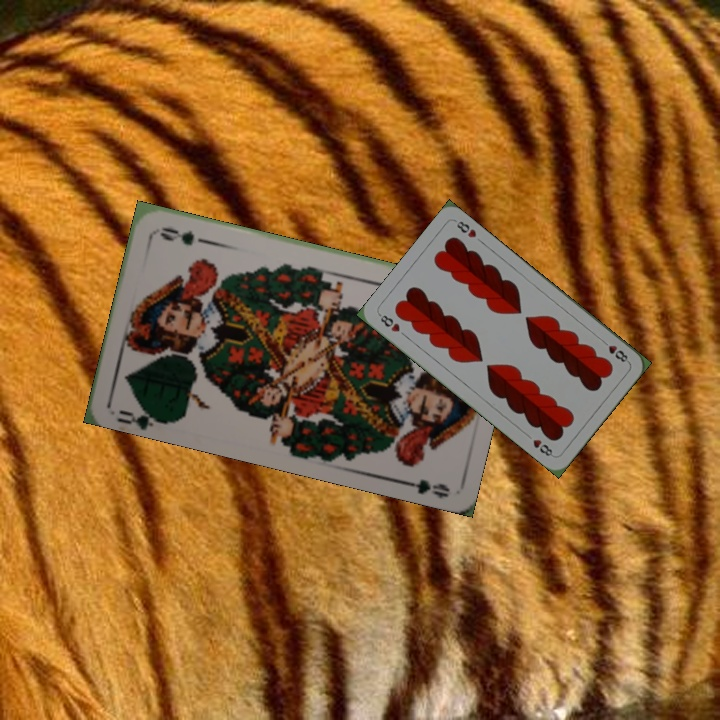GO: (114, 399, 170, 429)
H8: (597, 335, 631, 365), (375, 310, 402, 335)
